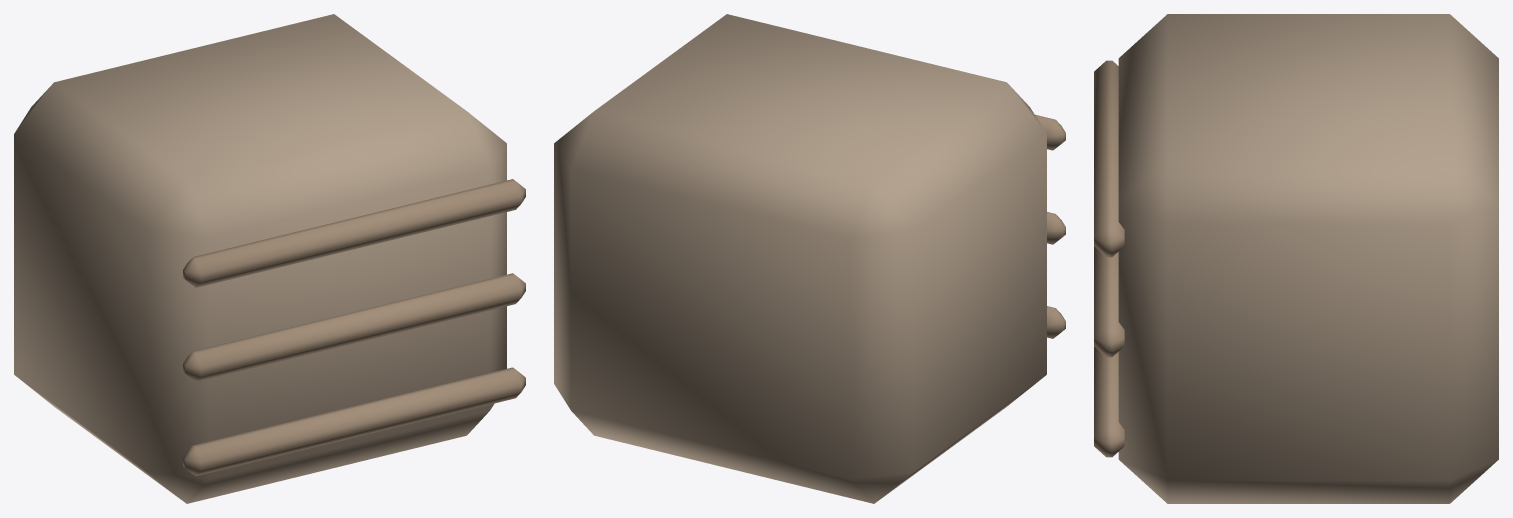
File: prop_crate.glb
The picture shows the model from 3 angles, left to right: view 1: azimuth 30°, elevation 25°; view 2: azimuth 150°, elevation 25°; view 3: azimuth 270°, elevation 25°; orthographic projection. The views are drawn at different scales.
Parts seen in each view (by area): view 1: prop_crate; view 2: prop_crate; view 3: prop_crate.
Part boxes in pixels (x1=…): prop_crate: x1=14, y1=14, x2=525, y2=503; prop_crate: x1=554, y1=14, x2=1065, y2=503; prop_crate: x1=1094, y1=14, x2=1498, y2=503.
Bounding box in the file's own units: 0.72 × 0.62 × 0.66.
